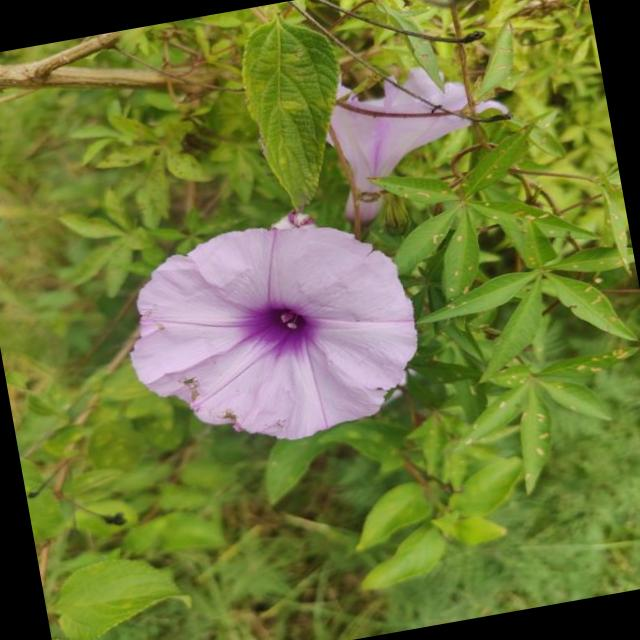ipomoea: (106, 198, 437, 469), (312, 48, 526, 228)
